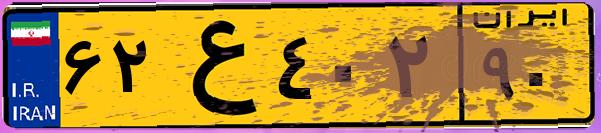0: (330, 28, 385, 110), (525, 38, 570, 115)
2: (385, 28, 445, 110), (110, 28, 158, 98)
4: (270, 28, 330, 110)
6: (57, 26, 110, 100)
9: (475, 38, 525, 113)
ع: (158, 12, 270, 120)
